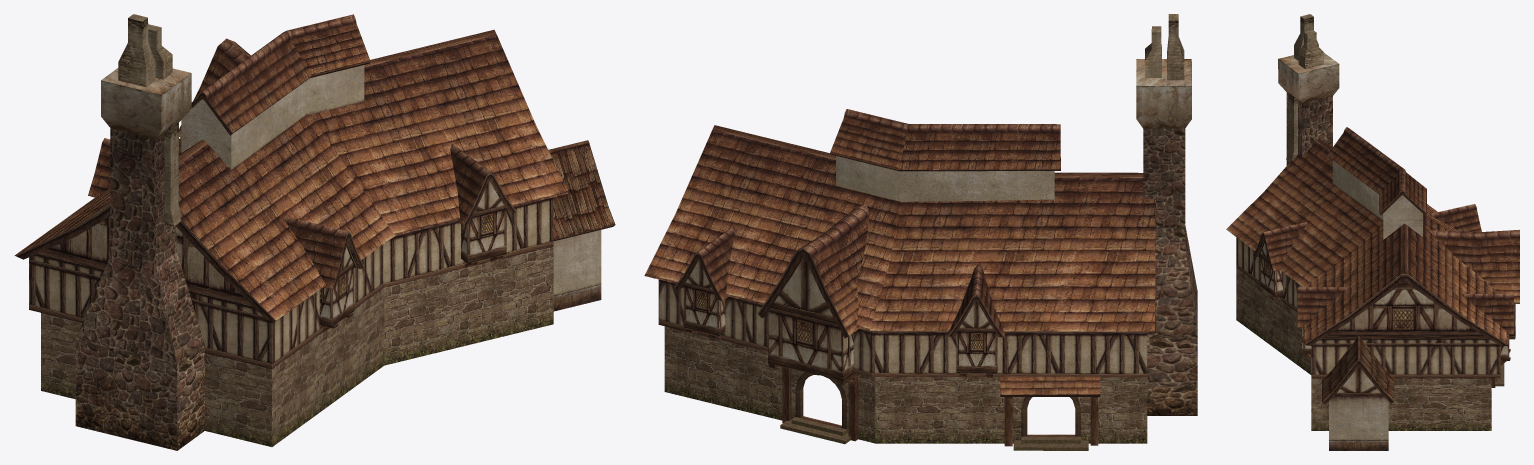
Rendered from ti_shop_02.glb.
3 renders of one model, left to right at view 1: azimuth 30°, elevation 25°; view 2: azimuth 150°, elevation 25°; view 3: azimuth 270°, elevation 25°, orthographic. The views are drawn at different scales.
Parts seen in each view (by area): view 1: TI_Shop_02; view 2: TI_Shop_02; view 3: TI_Shop_02.
Part boxes in pixels (x1=…): TI_Shop_02: x1=14, y1=14, x2=615, y2=450; TI_Shop_02: x1=644, y1=14, x2=1197, y2=450; TI_Shop_02: x1=1226, y1=14, x2=1519, y2=450.
Size of the model in its own units: 8.93 by 6.49 by 6.25.
Materials: 28 (28 with a texture image).
